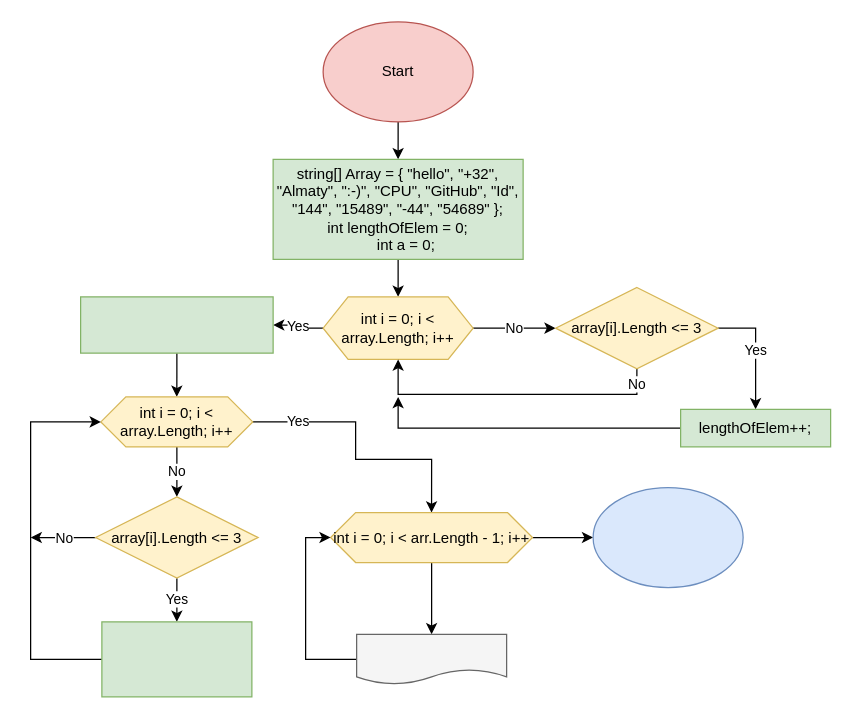
Some shapes in this 853 by 719 pixel diagram are drawn without their labels. Each missing label, with the centre of its shape:
"createArray[a] = array[i]; a++;" goes at pixel 176 659.
"End" goes at pixel 667 537.
"Print(createArray);" goes at pixel 431 658.
"string[] createArray = new string[lengthOfElem];" goes at pixel 176 324.
